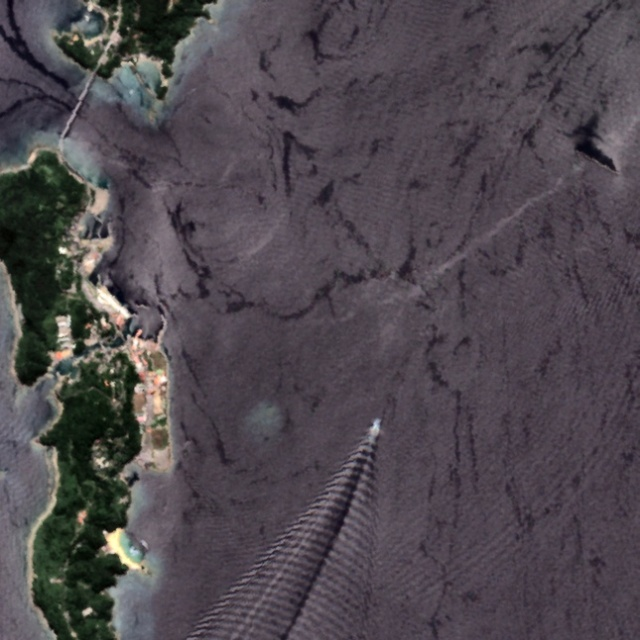wake: (240, 388, 444, 625)
